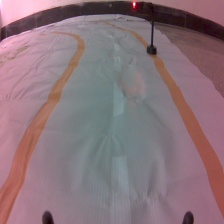red: (131, 1, 159, 58)
